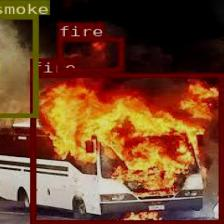fire: (29, 73, 223, 224), (57, 37, 123, 71)
smoke: (0, 15, 36, 117)
